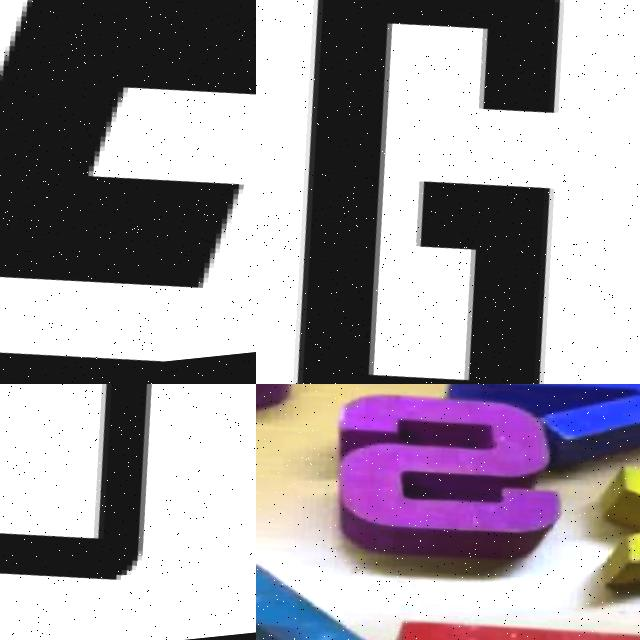5: (0, 384, 206, 605)
G: (256, 0, 609, 384)
